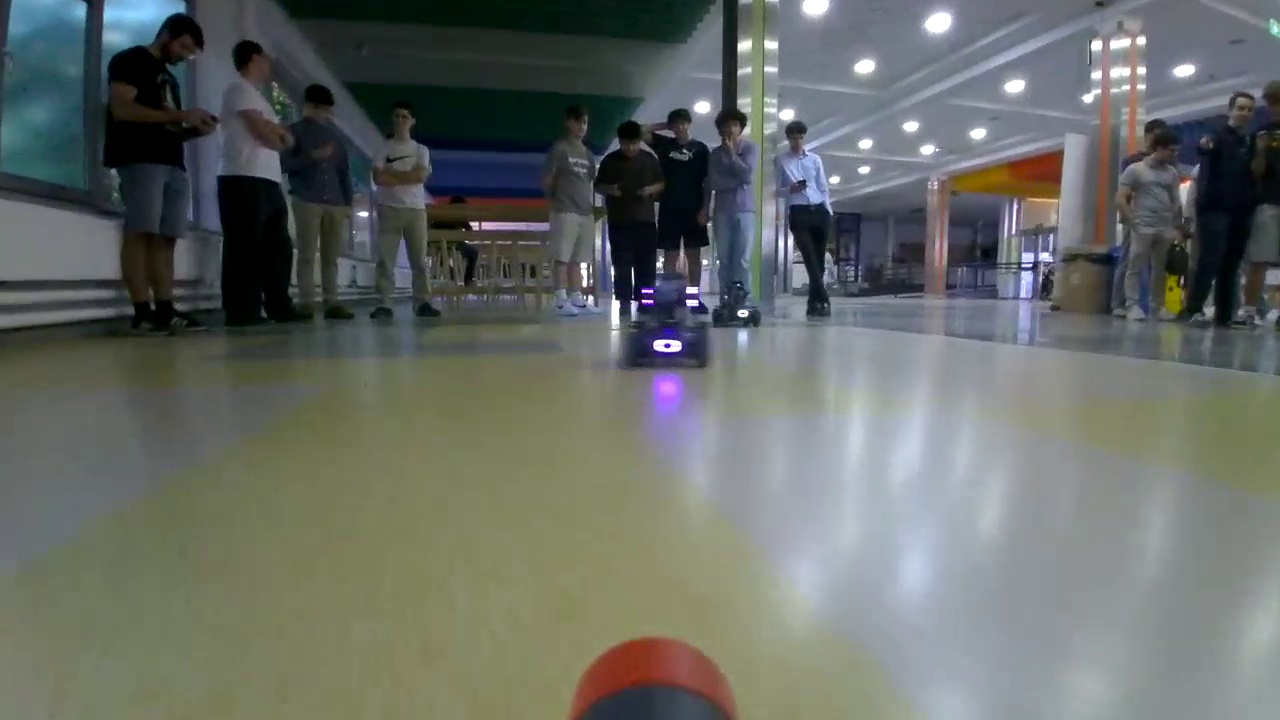robot: (628, 276, 706, 364), (720, 284, 762, 330)
